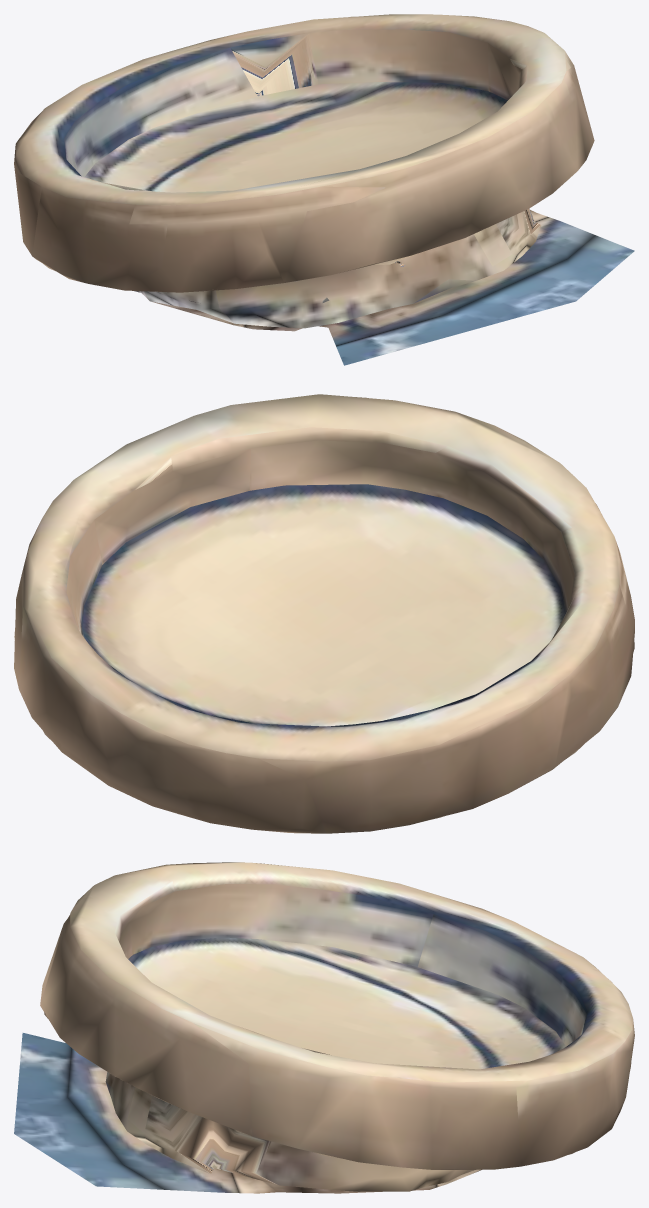
File: plate-lite.glb
3 views of the same model, one above another, from view 1: azimuth 30°, elevation 25°; view 2: azimuth 150°, elevation 25°; view 3: azimuth 270°, elevation 25° (orthographic). The views are drawn at different scales.
Visible parts, largest first — view 1: geometry_0; view 2: geometry_0; view 3: geometry_0.
Part boxes in pixels (x1,y1,x2,y2): geometry_0: [14, 14, 634, 365]; geometry_0: [14, 394, 634, 833]; geometry_0: [14, 862, 634, 1193].
Size of the model in its own units: 0.8922 by 0.3525 by 0.932.
Materials: 1 (1 with a texture image).
